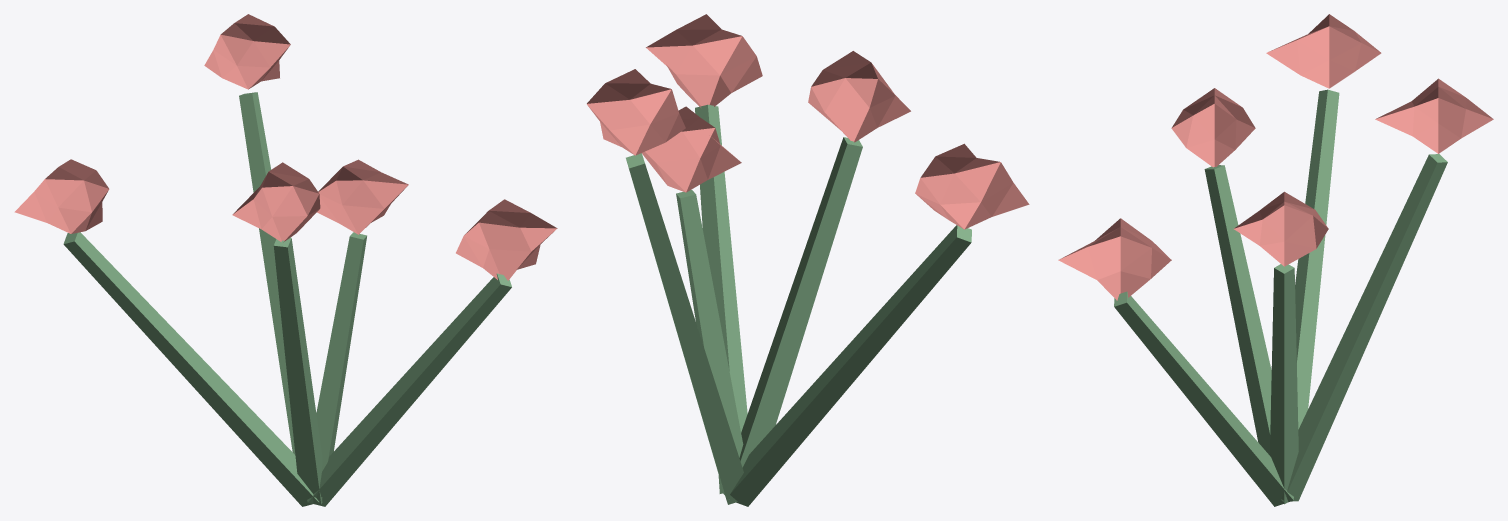
File: flower_v31.glb
3 views of the same model, side by side, from view 1: azimuth 30°, elevation 25°; view 2: azimuth 150°, elevation 25°; view 3: azimuth 270°, elevation 25° (orthographic). The views are drawn at different scales.
Visible parts, largest first — view 1: lod0; view 2: lod0; view 3: lod0.
Boxes of the visible parts, x1,y1,x2,y2 form: lod0: [14, 14, 557, 506]; lod0: [587, 14, 1029, 506]; lod0: [1058, 14, 1493, 506].
Size of what is drawn, in the model's own units: 0.5886 by 0.5536 by 0.5071.
